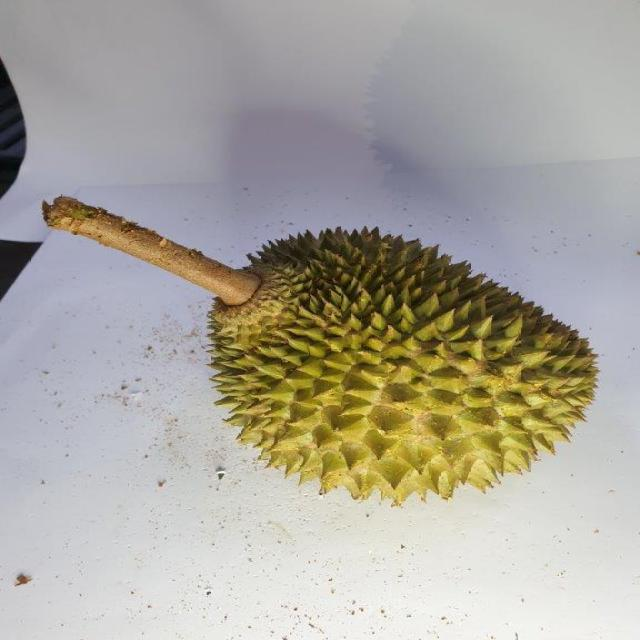immature: (197, 224, 602, 510)
